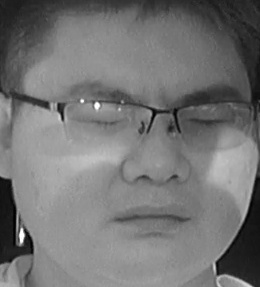blink: (83, 113, 125, 129), (191, 113, 228, 130)
glass: (63, 98, 154, 153), (173, 100, 252, 148)
mouth: (114, 200, 196, 240)
